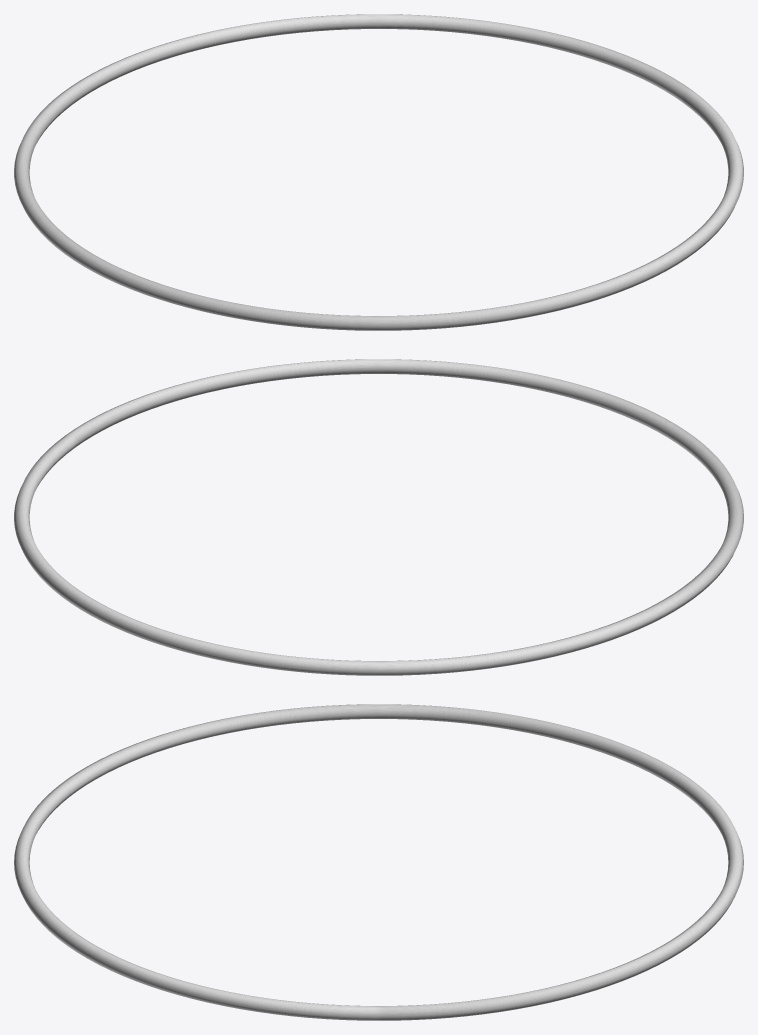
Rendered from false_king_pressure_front.obj.
3 renders of one model, top to bottom at view 1: azimuth 30°, elevation 25°; view 2: azimuth 150°, elevation 25°; view 3: azimuth 270°, elevation 25°, orthographic.
Parts seen in each view (by area): view 1: PressureFront; view 2: PressureFront; view 3: PressureFront.
Part boxes in pixels (<box>): PressureFront: <box>14,14,743,330</box>; PressureFront: <box>14,359,743,675</box>; PressureFront: <box>14,704,743,1020</box>.
Bounding box in the file's own units: 2.04 × 0.044 × 2.04.
Materials: 1 (1 with a texture image).
